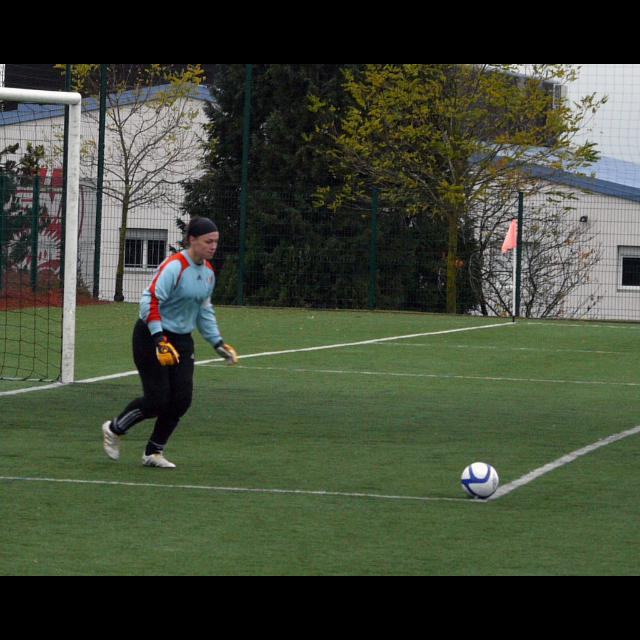Football: (461, 461, 497, 499)
